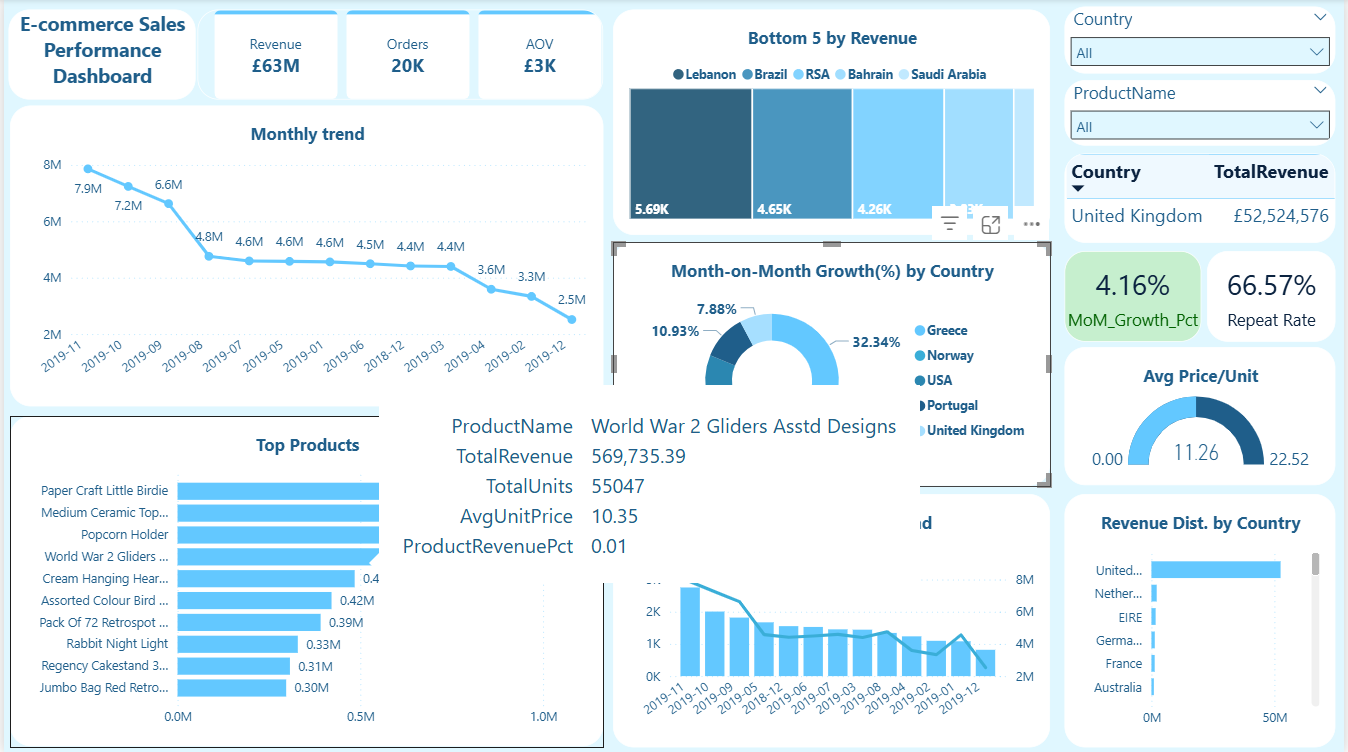

What the dashboard file says about the page in this screenshot:
{"tool":"powerbi","page":{"name":"Page 1","canvas":[1280,720],"ordinal":0},"visuals":[{"type":"cardVisual","fields":{"Data":["Sales.TotalRevenue","Sales.TotalOrders","Sales.AOV"]},"box":[185.4,9.8,387.1,86.2],"z":0},{"type":"lineChart","title":"Monthly trend","fields":{"Category":["Calendar.MonthYear"],"Y":["Sales.TotalRevenue"]},"box":[5.7,102,566.9,287.2],"z":1000},{"type":"treemap","title":"Bottom 5 by Revenue","fields":{"Group":["Sales.Country"],"Values":["Sales.TotalRevenue"]},"box":[582.1,9.4,417.6,215.4],"z":2000},{"type":"tableEx","fields":{"Values":["Sales.Country","Sales.TotalRevenue"]},"box":[1012.9,147.4,258.9,85],"z":3000},{"type":"clusteredBarChart","title":"Top Products","fields":{"Category":["Sales.ProductName"],"Y":["Sales.TotalRevenue"]},"box":[5.7,398.7,566.9,315.6],"z":4000},{"type":"lineStackedColumnComboChart","title":"Revenue vs. Orders Trend","fields":{"Category":["Calendar.MonthYear"],"Y2":["Sales.TotalRevenue"],"Y":["Sales.TotalOrders"]},"box":[582.1,472.4,417.6,241.9],"z":5000},{"type":"card","fields":{"Values":["Sales.MoM_Growth_Pct"]},"box":[1012.9,240,130.4,86.9],"z":6000},{"type":"slicer","fields":{"Values":["Sales.Country"]},"box":[1012.9,7.6,258.9,64.3],"z":7000},{"type":"slicer","fields":{"Values":["Sales.ProductName"]},"box":[1012.9,77.5,258.9,62.4],"z":8000},{"type":"card","fields":{"Values":["Sales.RepeatRate"]},"box":[1149,240,122.8,86.9],"z":9000},{"type":"donutChart","title":"Month-on-Month Growth(%) by Country","fields":{"Category":["Sales.Country"],"Y":["Sales.MoM_Growth_Pct"]},"box":[582.1,232.4,417.6,232.4],"z":10000},{"type":"gauge","title":"Avg Price/Unit","fields":{"Y":["Sales.AvgUnitPrice"]},"box":[1012.9,332.6,258.9,132.3],"z":11000},{"type":"barChart","title":"Revenue Dist. by Country","fields":{"Y":["Sales.TotalRevenue"],"Category":["Sales.Country"]},"box":[1012.9,472.4,258.9,241.9],"z":12000},{"type":"textbox","box":[4.9,9.8,178.9,86.2],"z":13000}]}

Visuals, with their boxes in screenshot pixels (x1, y1, x2, y2), scaled from the page's 1280x720 canvas onto the 1348x752 screenshot:
cardVisual - Sales.TotalRevenue x Sales.TotalOrders: (195, 10, 603, 100)
"Monthly trend" lineChart: (6, 107, 603, 406)
"Bottom 5 by Revenue" treemap: (613, 10, 1053, 235)
tableEx - Sales.Country x Sales.TotalRevenue: (1067, 154, 1339, 243)
"Top Products" clusteredBarChart: (6, 416, 603, 746)
"Revenue vs. Orders Trend" lineStackedColumnComboChart: (613, 493, 1053, 746)
card - Sales.MoM_Growth_Pct: (1067, 251, 1204, 341)
slicer - Sales.Country: (1067, 8, 1339, 75)
slicer - Sales.ProductName: (1067, 81, 1339, 146)
card - Sales.RepeatRate: (1210, 251, 1339, 341)
"Month-on-Month Growth(%) by Country" donutChart: (613, 243, 1053, 485)
"Avg Price/Unit" gauge: (1067, 347, 1339, 486)
"Revenue Dist. by Country" barChart: (1067, 493, 1339, 746)
textbox: (5, 10, 194, 100)
